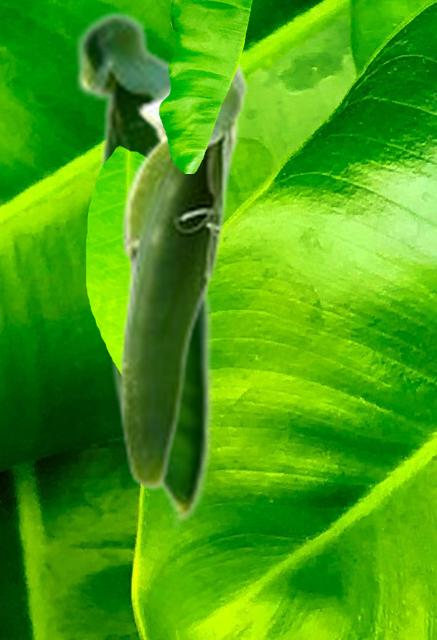pea: (73, 8, 213, 530), (118, 60, 248, 490)
